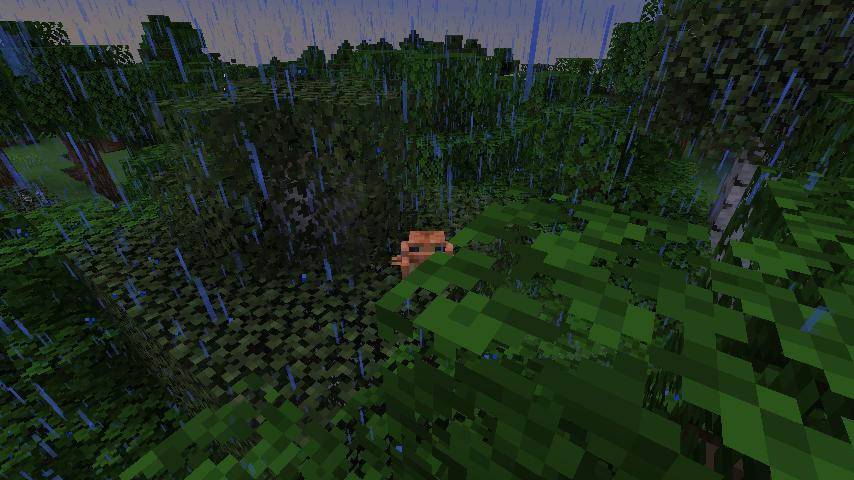frog: (389, 224, 461, 282)
